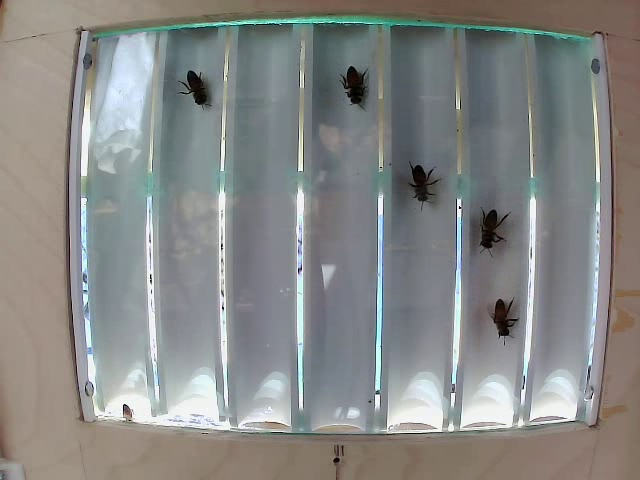bee: (398, 155, 457, 209), (469, 193, 507, 261), (479, 291, 526, 342), (343, 58, 377, 121), (179, 72, 219, 120)
